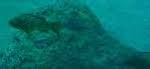mebaru: (4, 9, 61, 40)
